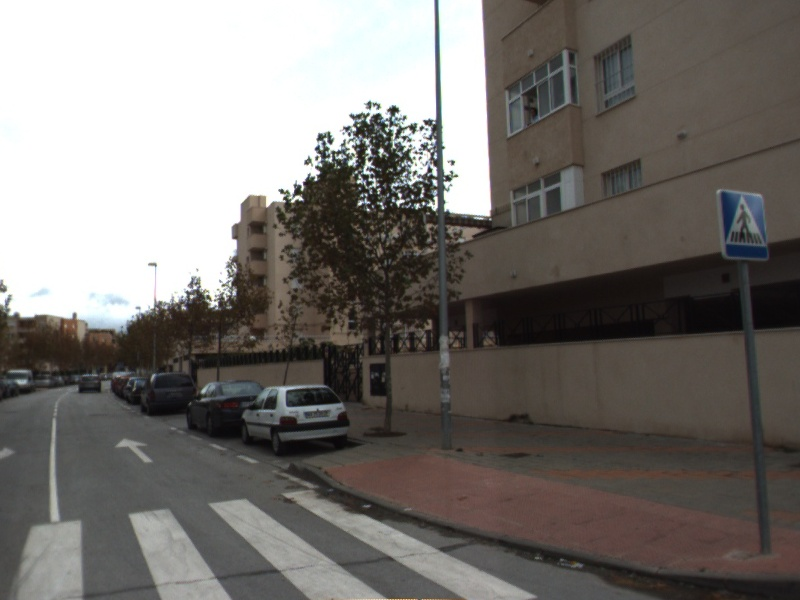STRAIGHT: (113, 436, 155, 464)
